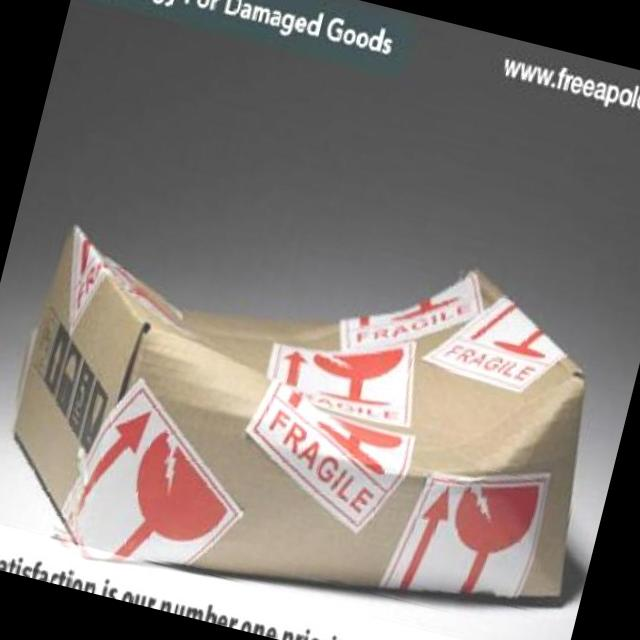crushed: (9, 221, 586, 598)
